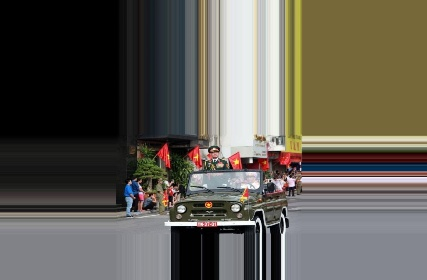plate: (195, 220, 219, 229)
